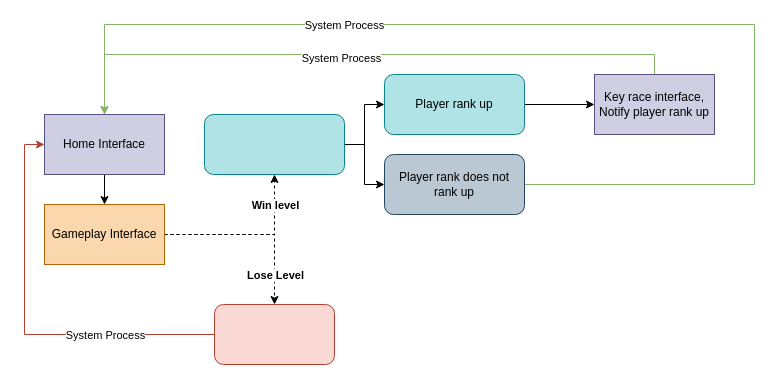
This 780x382 diagram has some shape labels left out. The box of each missing label's shape, as (x1, y1, x2, y2) in pixels:
Add player point, reward rank up: (204, 114, 344, 174)
Does not add point, reset reward: (214, 304, 334, 364)
